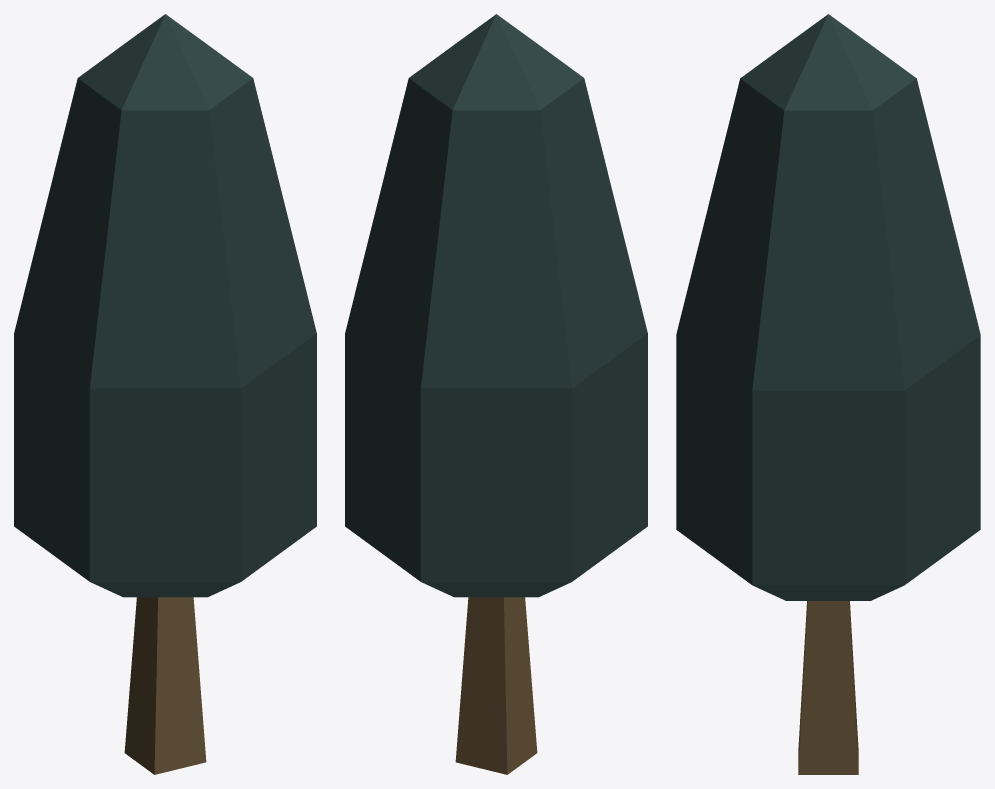
File: Oak_Dark_01.obj
3 views of the same model, side by side, from view 1: azimuth 30°, elevation 25°; view 2: azimuth 150°, elevation 25°; view 3: azimuth 270°, elevation 25° (orthographic).
Parts seen in each view (by area): view 1: Mesh1_Oak_Dark_Model; view 2: Mesh1_Oak_Dark_Model; view 3: Mesh1_Oak_Dark_Model.
Boxes of the visible parts, x1,y1,x2,y2 form: Mesh1_Oak_Dark_Model: (14, 14, 316, 774); Mesh1_Oak_Dark_Model: (345, 14, 647, 774); Mesh1_Oak_Dark_Model: (676, 14, 980, 774).
Bounding box in the file's own units: 1.58 × 4.93 × 1.82.
